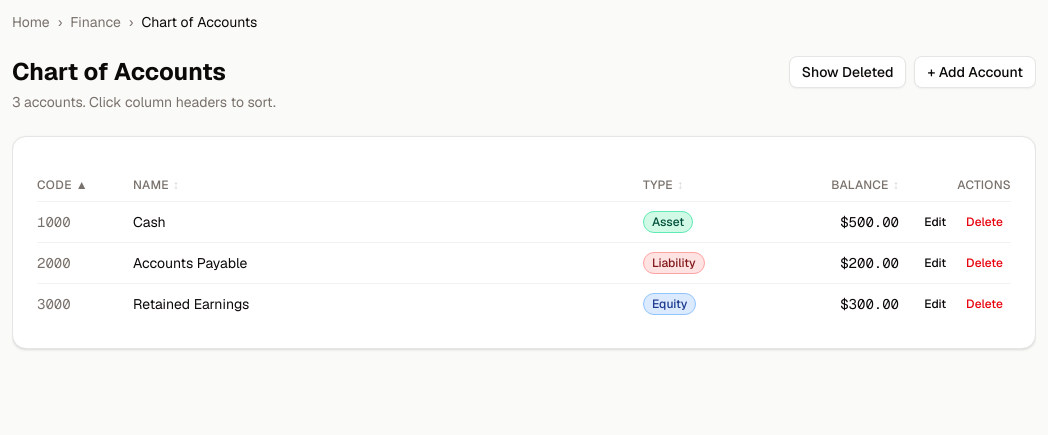
Test case: ChartOfAccountsPage › shows validation error for empty name
Expected: the link "Cash" is shown, 133,213 -> 166,231
Step 1. Click the button "Edit" in the row of "1000" → (935,222), box 916,210 -> 954,234
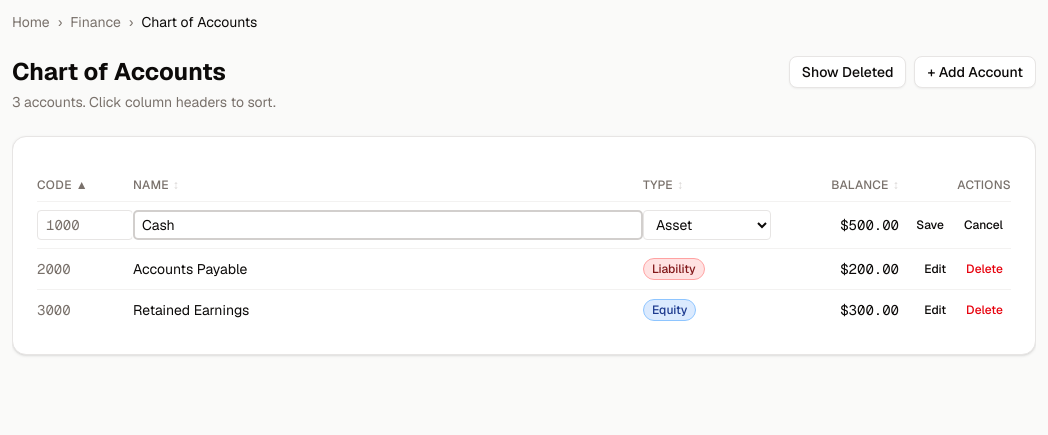
Step 2. Clear the field showing "Cash" → (388,225), box 133,210 -> 643,240
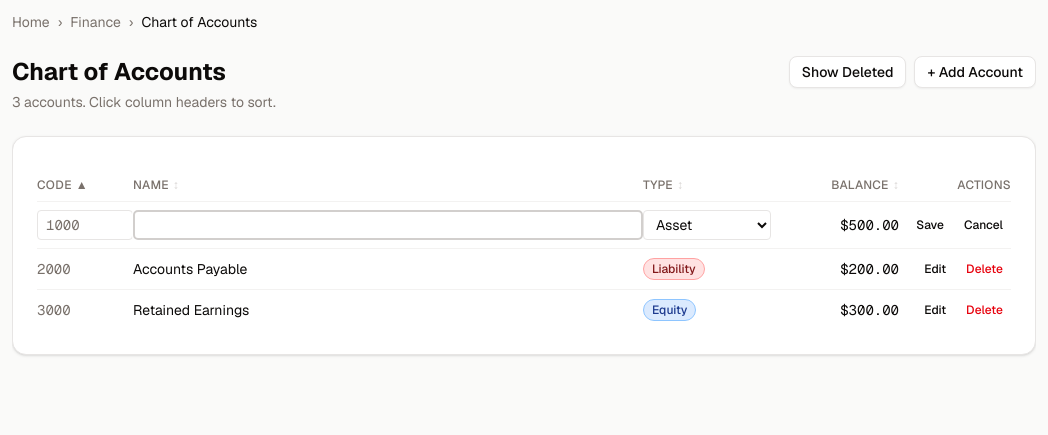
Step 3. Click the button "Save" → (930,225), box 908,213 -> 952,237
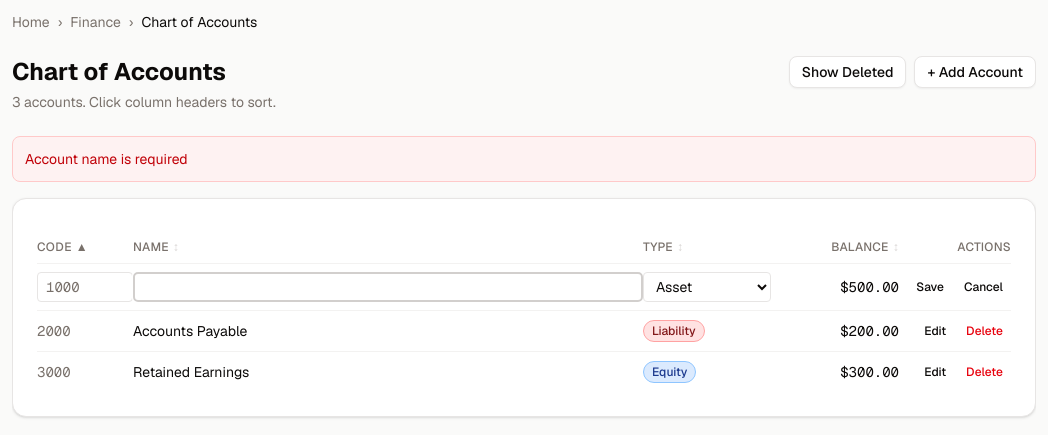
Result: the text "Account name is required" is shown at 12,136 -> 1036,182
